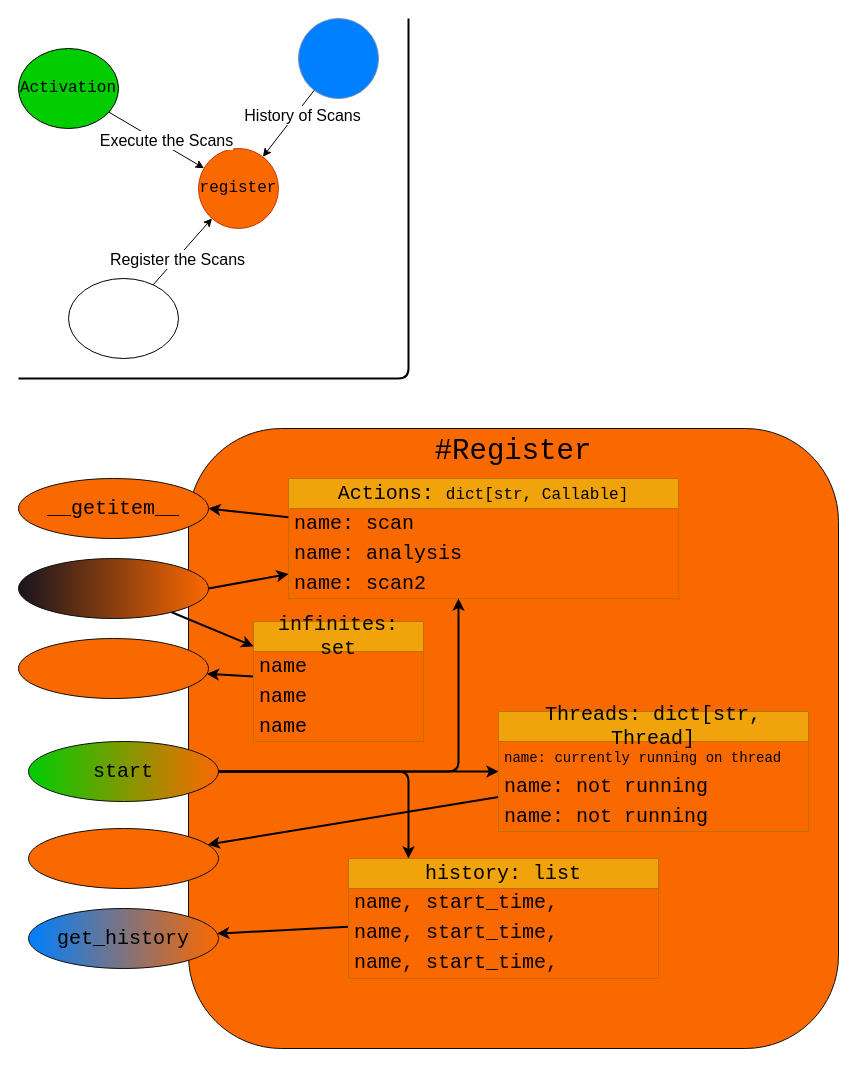
This 856x1066 diagram has some shape labels left out. Each missing label, with the centre of its shape:
__setitem__: the point at 113,588
exe (entrance point): the point at 123,318
files: the point at 338,58
is_infinite_scan: the point at 113,668
is_running: the point at 123,858
